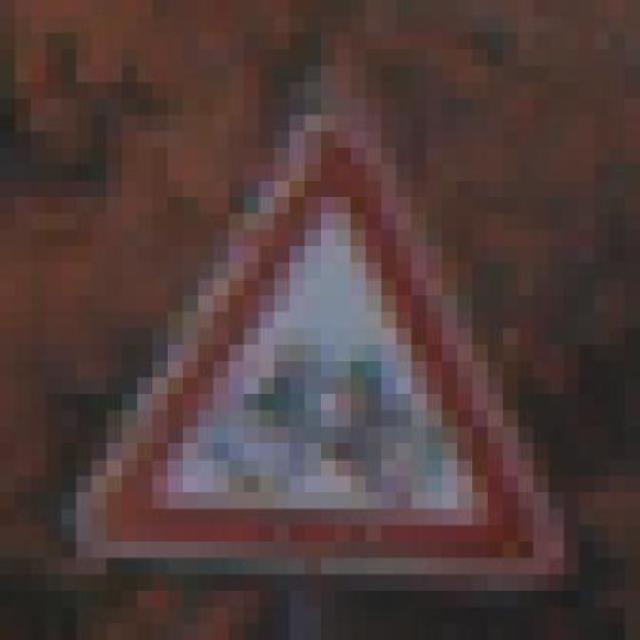CYCLE ROUTE AHEAD WARNING: (46, 98, 594, 608)
